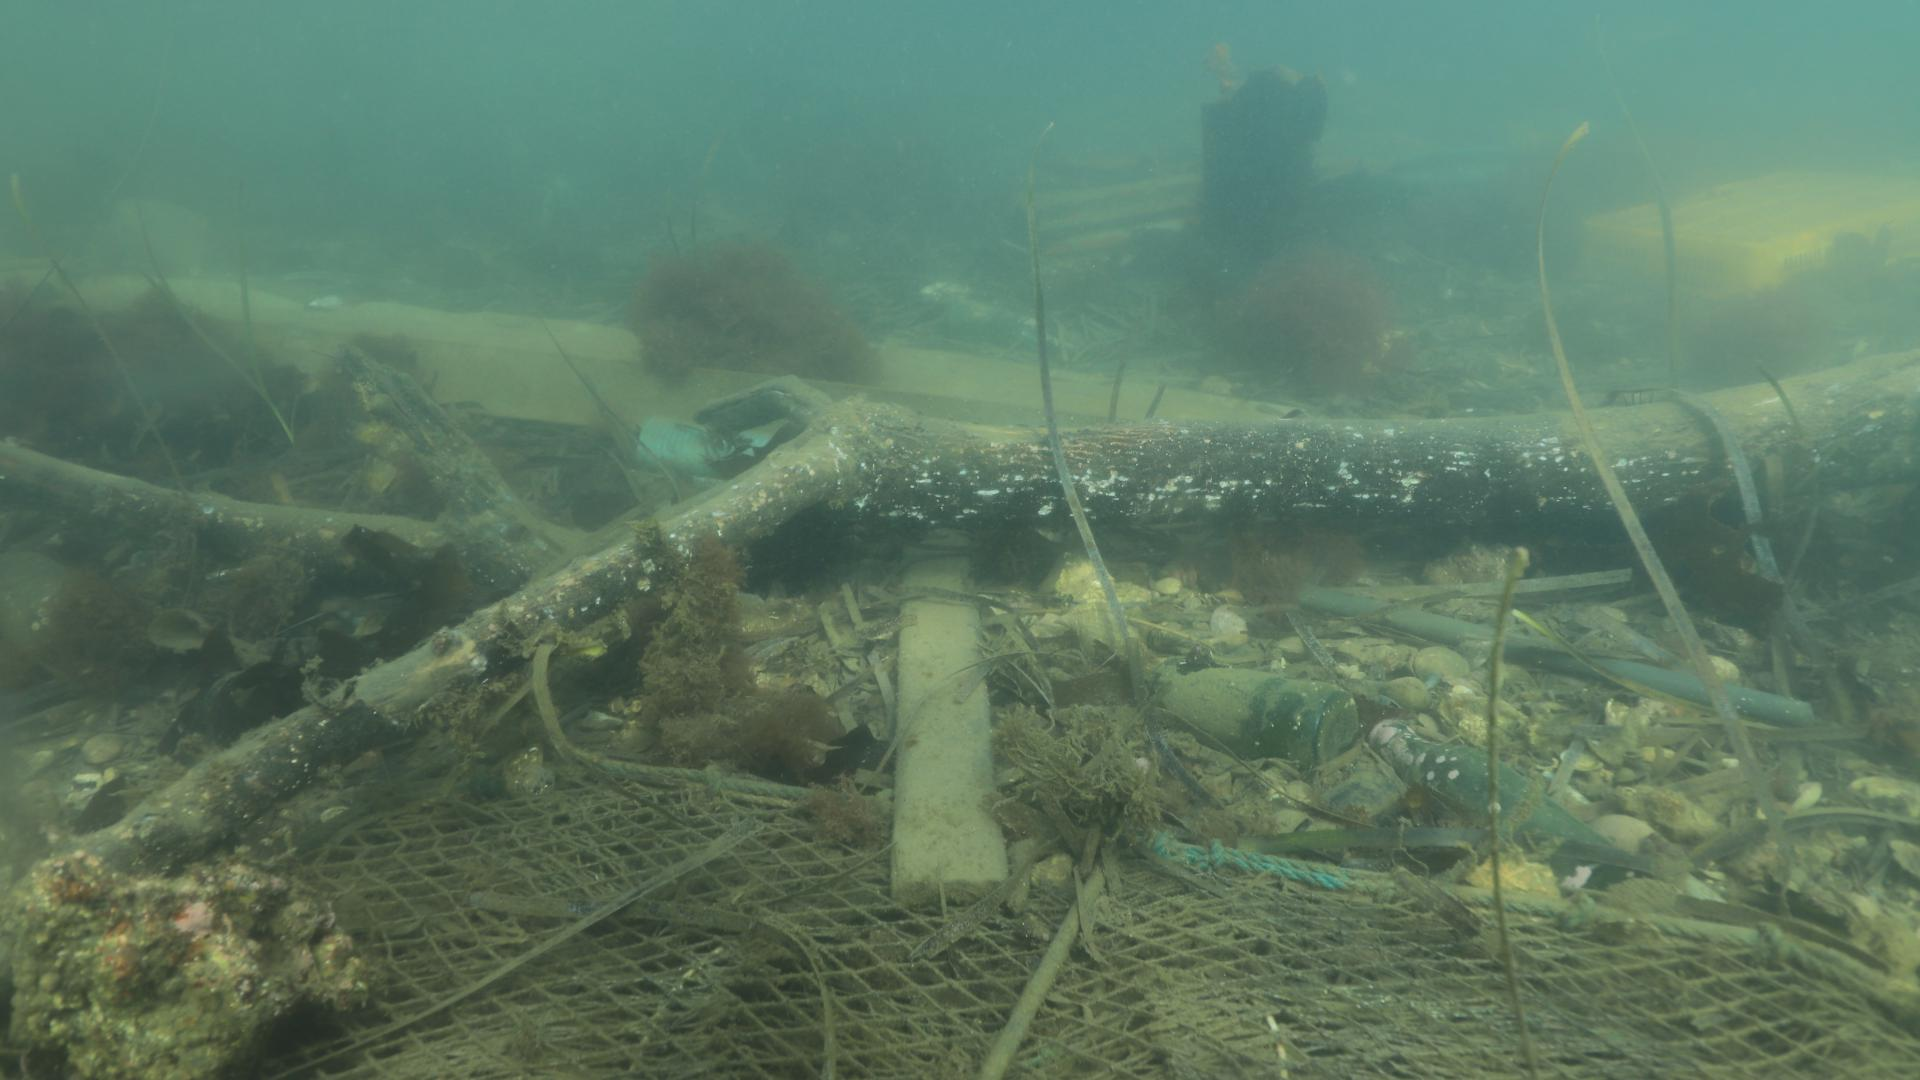rectangular fish trap: (247, 752, 1920, 1080)
wood: (0, 340, 1917, 951)
